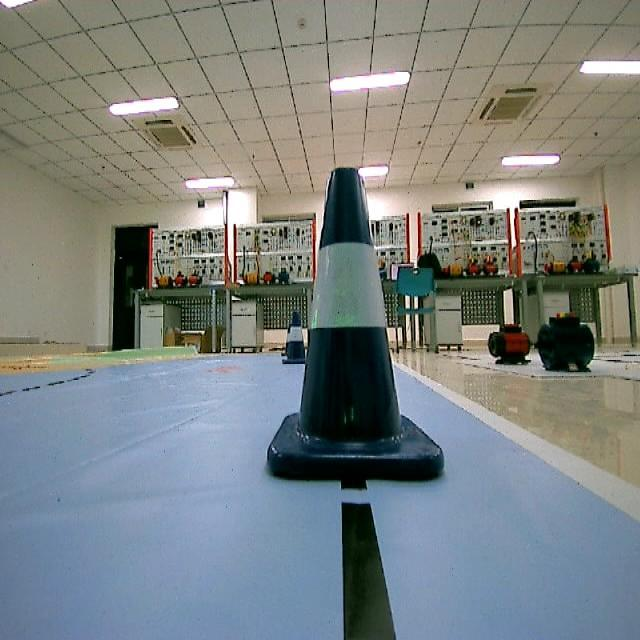obstacle: (250, 156, 454, 488), (280, 305, 311, 361)
